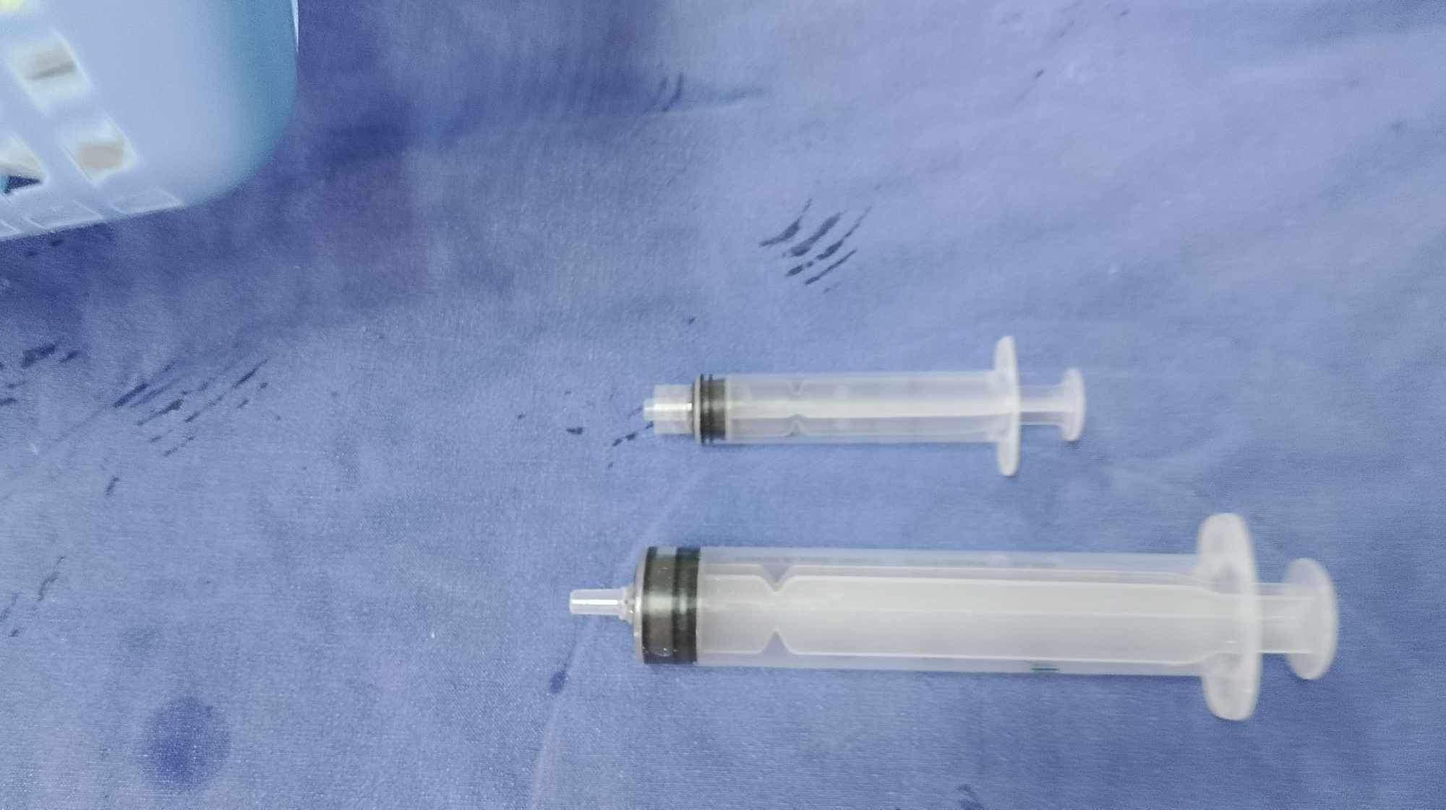Sharps: (568, 511, 1340, 722), (626, 333, 1088, 477)
